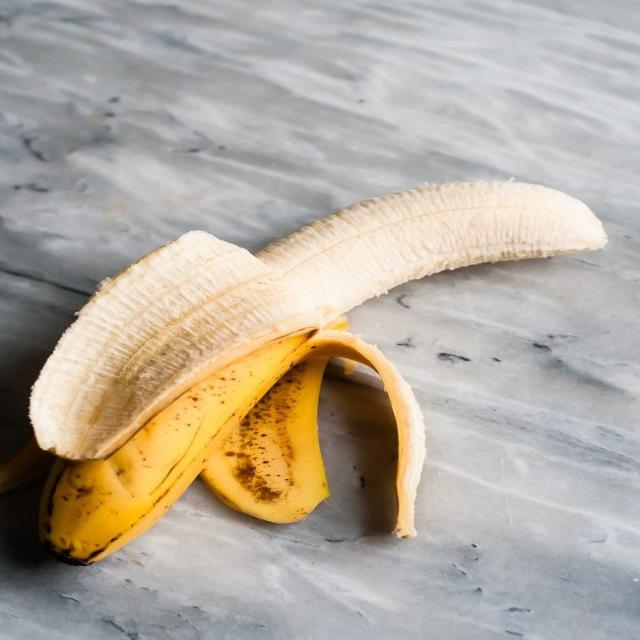banana: (31, 183, 606, 536), (31, 183, 606, 459), (41, 331, 423, 564), (30, 232, 318, 459), (41, 336, 306, 564), (257, 182, 606, 319), (201, 358, 328, 523), (0, 439, 55, 493)
